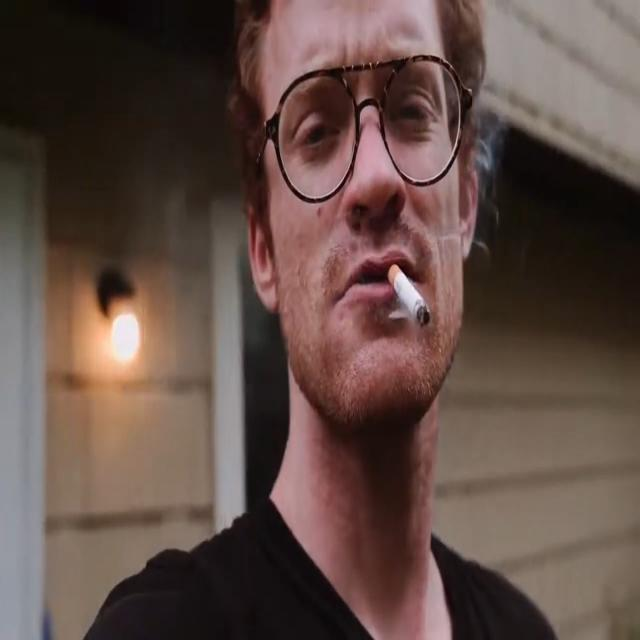Курение: (382, 257, 434, 336)
